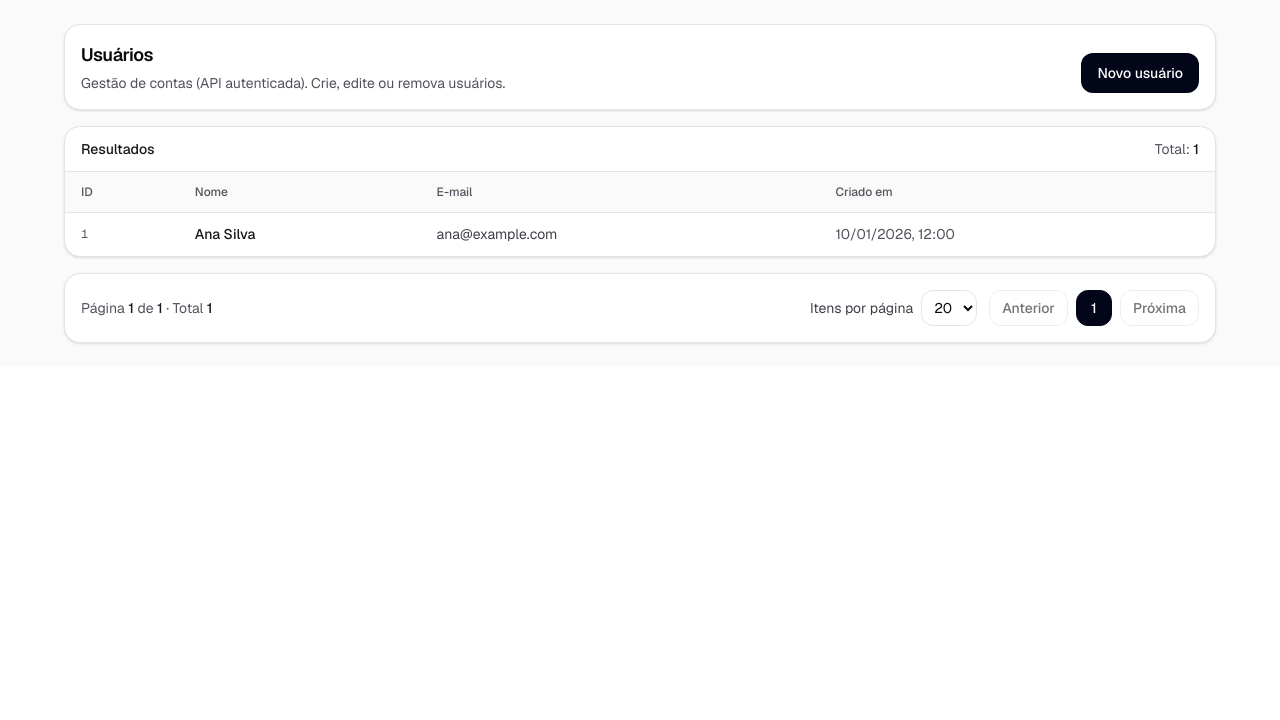
it: UsersPage (UI) › deve abrir detalhe ao clicar na linha e fechar
Step 1. Click the text "Ana Silva" → (225, 234), box [179, 212, 421, 256]
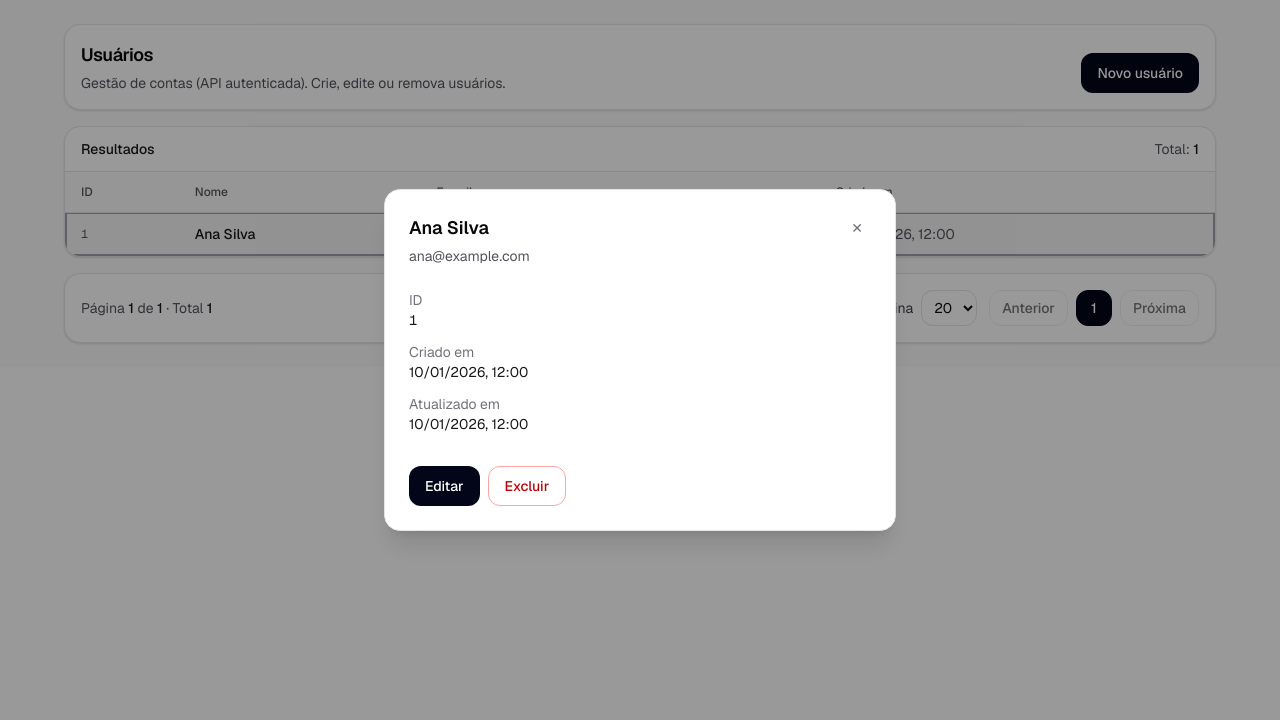
expect the heading "Ana Silva" is shown: met, box [409, 216, 489, 239]
expect the text "ana@example.com" is shown: met, box [409, 246, 530, 266]
Step 2. Click the button "✕" → (857, 228), box [843, 214, 871, 242]
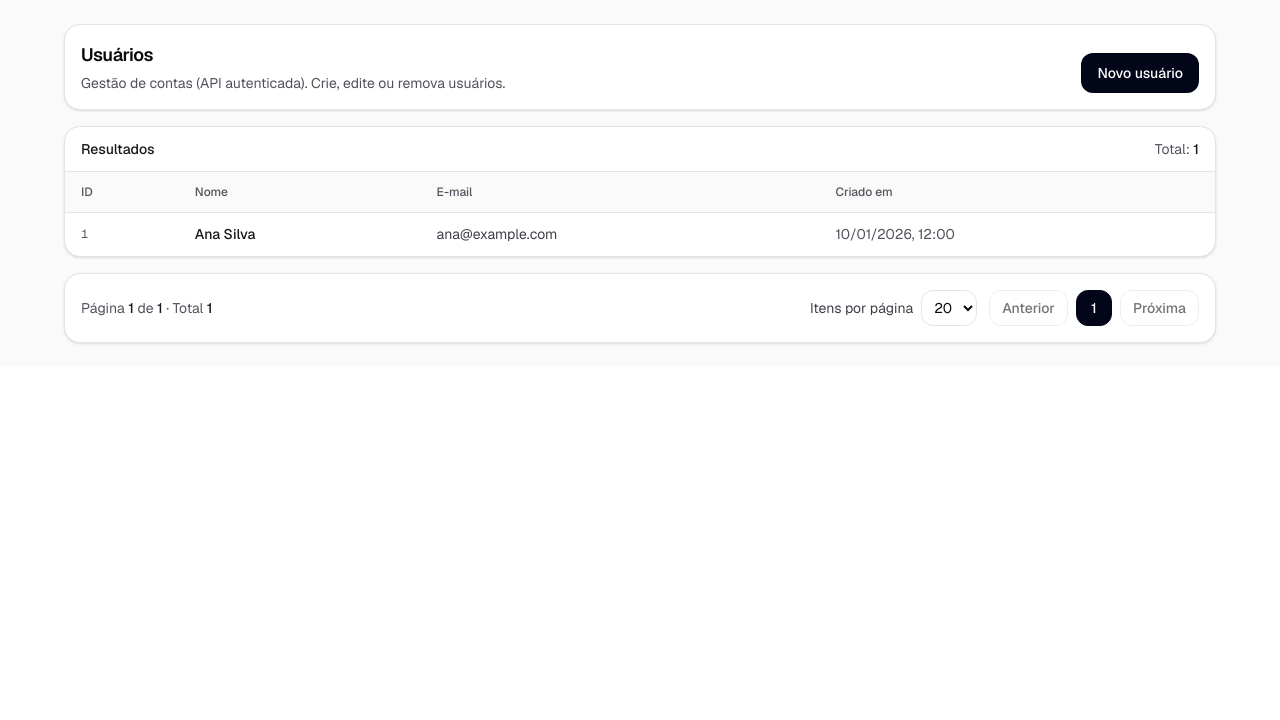
expect the dialog is gone: met
